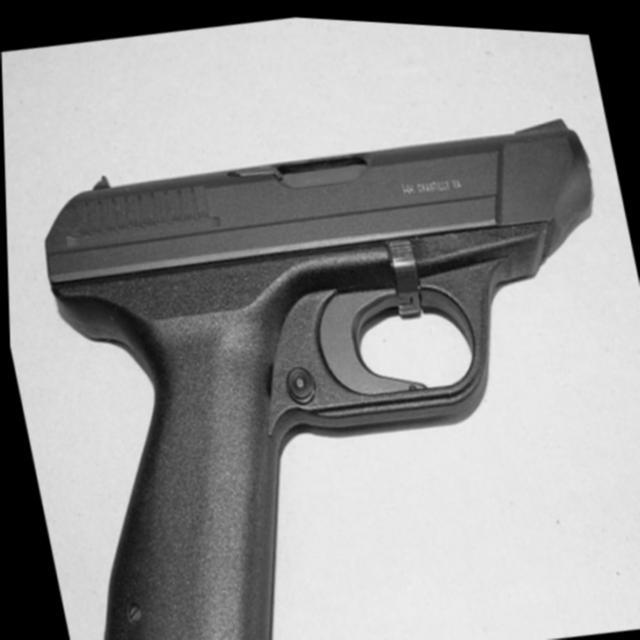weapon: (3, 77, 640, 640)
